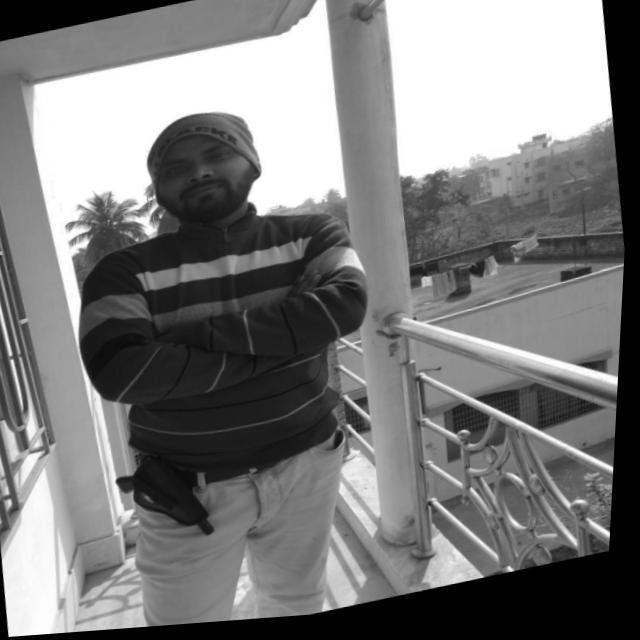weapon: (109, 440, 238, 562)
